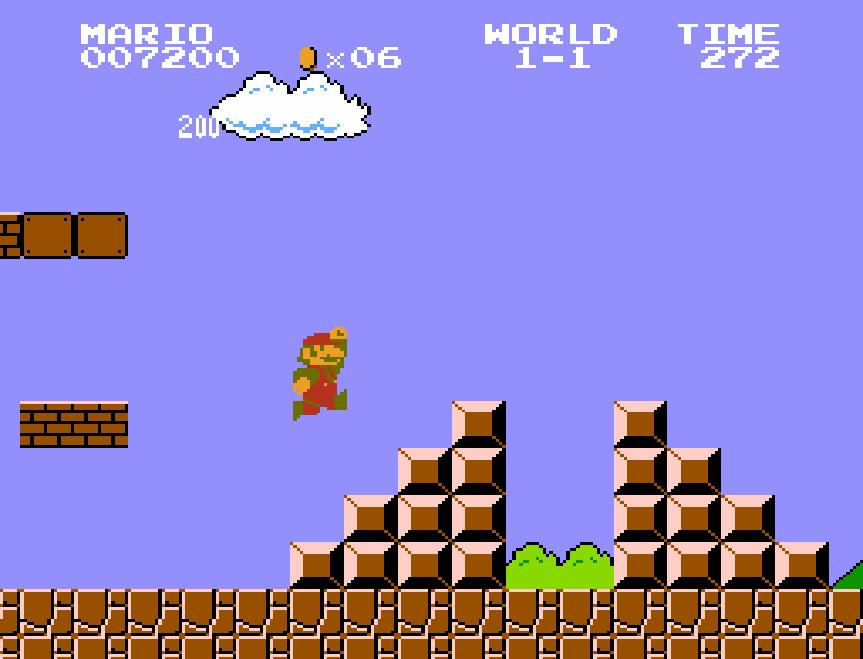big_mario: (291, 325, 349, 423)
